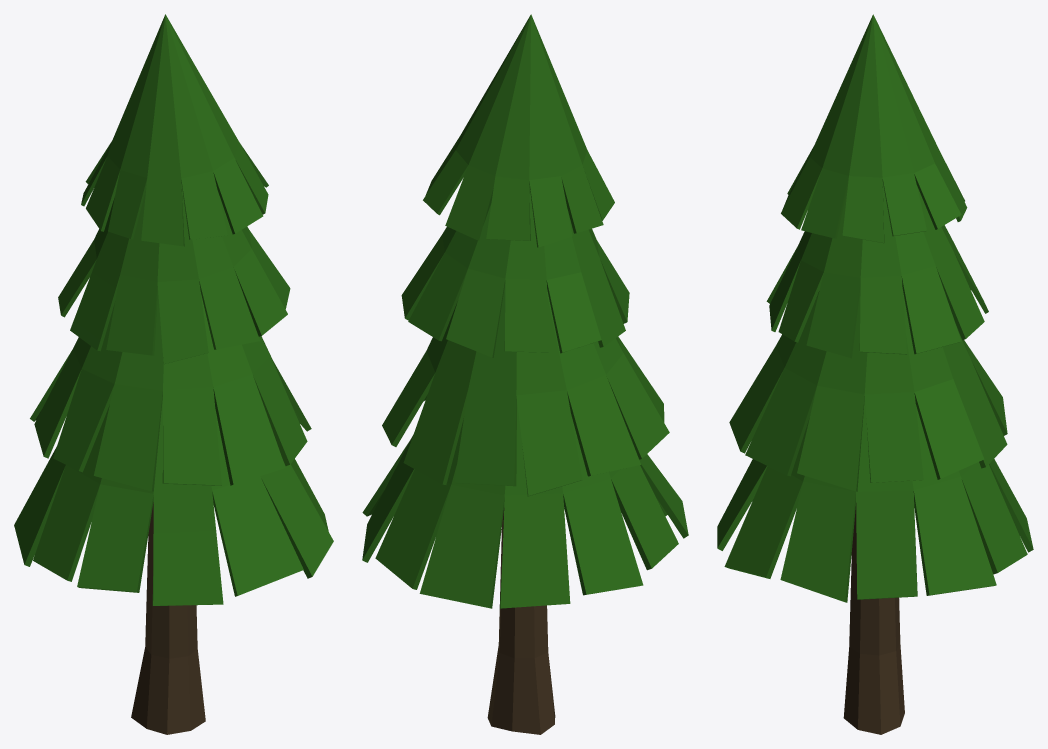
The model's file is tree_pine_d.glb.
3 renders of one model, left to right at view 1: azimuth 30°, elevation 25°; view 2: azimuth 150°, elevation 25°; view 3: azimuth 270°, elevation 25°, orthographic.
Parts seen in each view (by area): view 1: Tree2_Tree3_1.001_0; view 2: Tree2_Tree3_1.001_0; view 3: Tree2_Tree3_1.001_0.
Part boxes in pixels (bbox=[...]): Tree2_Tree3_1.001_0: bbox=[14, 14, 333, 734]; Tree2_Tree3_1.001_0: bbox=[362, 14, 688, 734]; Tree2_Tree3_1.001_0: bbox=[717, 14, 1033, 734].
Size of the model in its own units: 6.29 by 15.65 by 6.39.
Materials: 1 (1 with a texture image).
